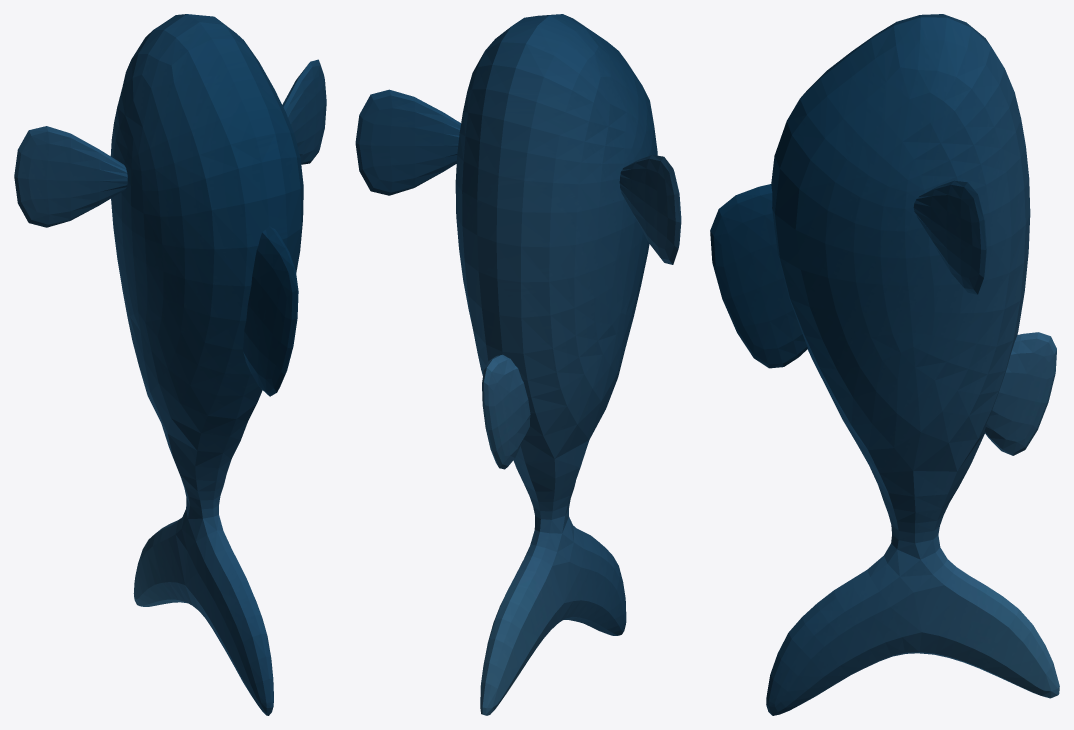
The model's file is blue_fish.obj.
3 renders of one model, left to right at view 1: azimuth 30°, elevation 25°; view 2: azimuth 150°, elevation 25°; view 3: azimuth 270°, elevation 25°, orthographic. The views are drawn at different scales.
Parts seen in each view (by area): view 1: Object.1; view 2: Object.1; view 3: Object.1.
Part boxes in pixels (left/top/right/bottom): Object.1: left=14, top=14, right=326, bottom=715; Object.1: left=355, top=14, right=681, bottom=715; Object.1: left=710, top=14, right=1059, bottom=715.
Size of the model in its own units: 88.19 by 174 by 79.09.
Materials: 1 (1 with a texture image).
